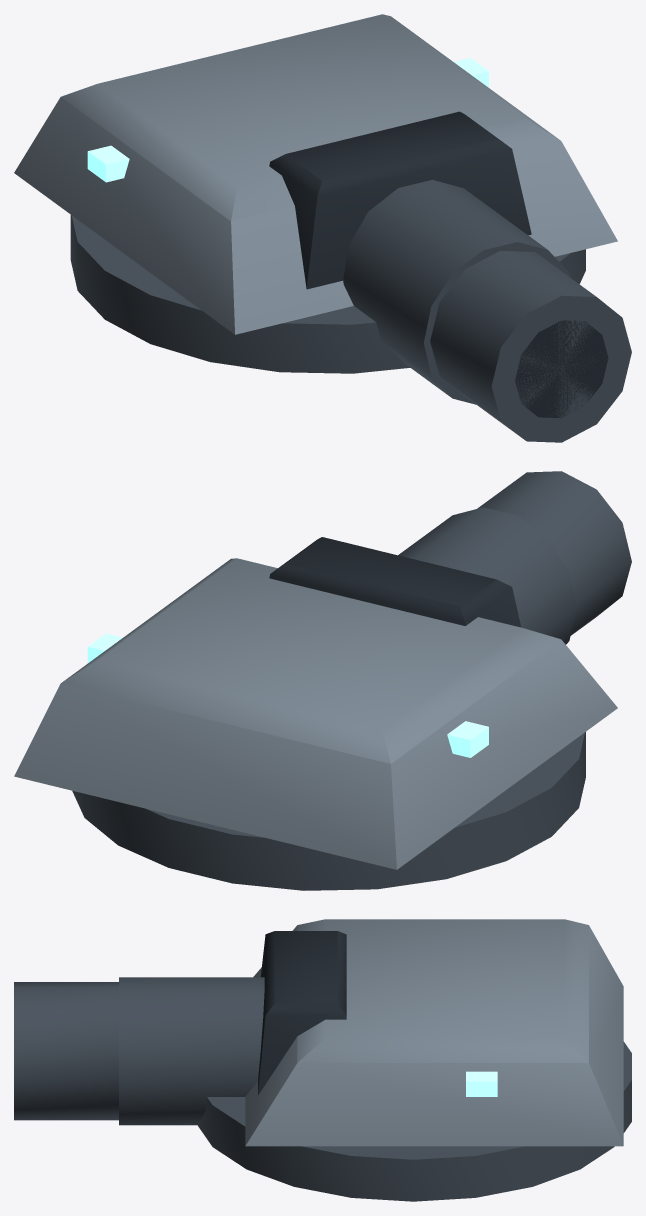
The model's file is arena_weapon_howitzer.glb.
The picture shows the model from 3 angles, top to bottom: view 1: azimuth 30°, elevation 25°; view 2: azimuth 150°, elevation 25°; view 3: azimuth 270°, elevation 25°; orthographic projection. The views are drawn at different scales.
Visible parts, largest first — view 1: turret_body, barrel_0_brake, cradle, recoil_sleeve, base, barrel_0_tube, turret_team; view 2: turret_body, base, cradle, recoil_sleeve, barrel_0_brake, turret_team; view 3: turret_body, recoil_sleeve, base, barrel_0_brake, cradle, turret_team.
Part boxes in pixels (x1,y1,x2,y2): turret_body: (14,14,617,334); barrel_0_brake: (430,250,631,442); cradle: (269,111,531,289); recoil_sleeve: (343,180,570,404); base: (70,215,585,373); barrel_0_tube: (515,320,608,418); turret_team: (87,58,488,182); turret_body: (14,558,617,869); base: (72,732,585,890); cradle: (269,537,521,627); recoil_sleeve: (398,507,576,644); barrel_0_brake: (477,471,631,635); turret_team: (87,633,488,757); turret_body: (245,919,623,1146); recoil_sleeve: (119,977,264,1125); base: (197,1041,631,1201); barrel_0_brake: (14,982,118,1120); cradle: (258,931,346,1095); turret_team: (466,1071,497,1096).
Bounding box in the file's own units: 10.5 × 3.95 × 14.7.
